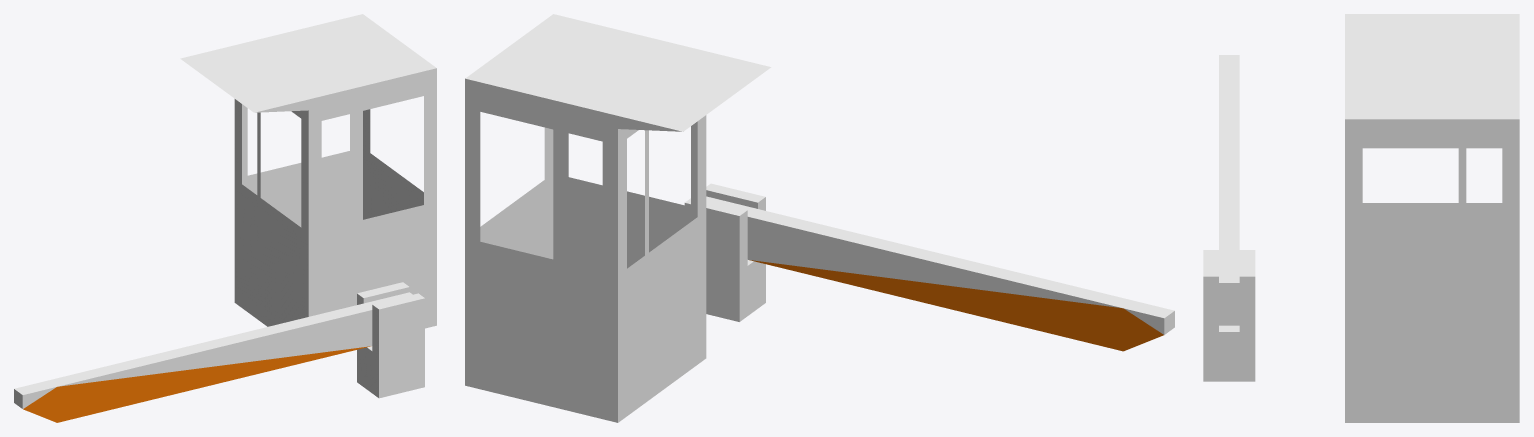
The model's file is BoothA.fbx.
3 renders of one model, left to right at view 1: azimuth 30°, elevation 25°; view 2: azimuth 150°, elevation 25°; view 3: azimuth 270°, elevation 25°, orthographic. The views are drawn at different scales.
Parts seen in each view (by area): view 1: BoothA, BoothABarrier, BoothABarrierMount; view 2: BoothA, BoothABarrier, BoothABarrierMount; view 3: BoothA, BoothABarrier, BoothABarrierMount.
Boxes of the visible parts, bbox=[...] form: BoothA: bbox=[180, 14, 436, 328]; BoothABarrier: bbox=[14, 292, 412, 422]; BoothABarrierMount: bbox=[357, 282, 424, 398]; BoothA: bbox=[465, 14, 771, 422]; BoothABarrier: bbox=[706, 196, 1174, 351]; BoothABarrierMount: bbox=[684, 183, 765, 321]; BoothA: bbox=[1345, 14, 1519, 422]; BoothABarrier: bbox=[1219, 55, 1239, 325]; BoothABarrierMount: bbox=[1203, 250, 1255, 381].
Bounding box in the file's own units: 309 × 162 × 153.
1 material, 1 textured.
